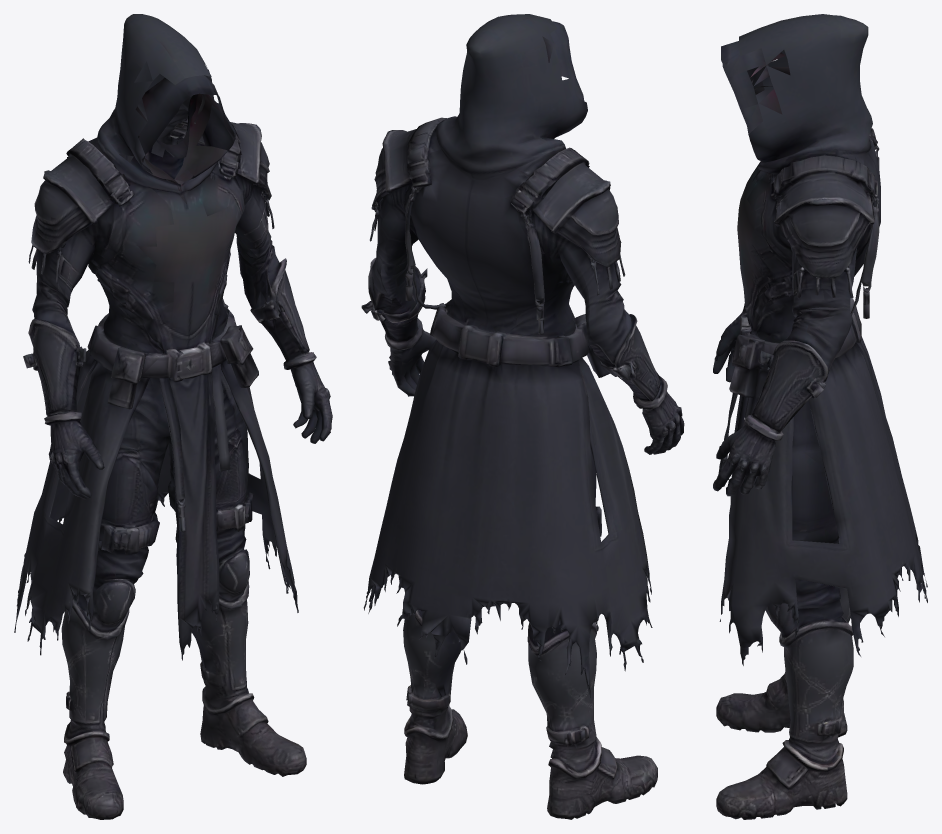
File: leonidas-body.glb
The picture shows the model from 3 angles, left to right: view 1: azimuth 30°, elevation 25°; view 2: azimuth 150°, elevation 25°; view 3: azimuth 270°, elevation 25°; orthographic projection. The views are drawn at different scales.
Visible parts, largest first — view 1: Object_4; view 2: Object_4; view 3: Object_4.
Boxes of the visible parts, x1,y1,x2,y2 form: Object_4: [14, 14, 332, 819]; Object_4: [361, 14, 684, 819]; Object_4: [713, 14, 927, 819].
Size of the model in its own units: 0.3865 by 1 by 0.2603.
Materials: 1 (1 with a texture image).
